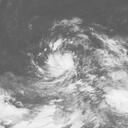cyclone: (39, 18, 107, 92)
